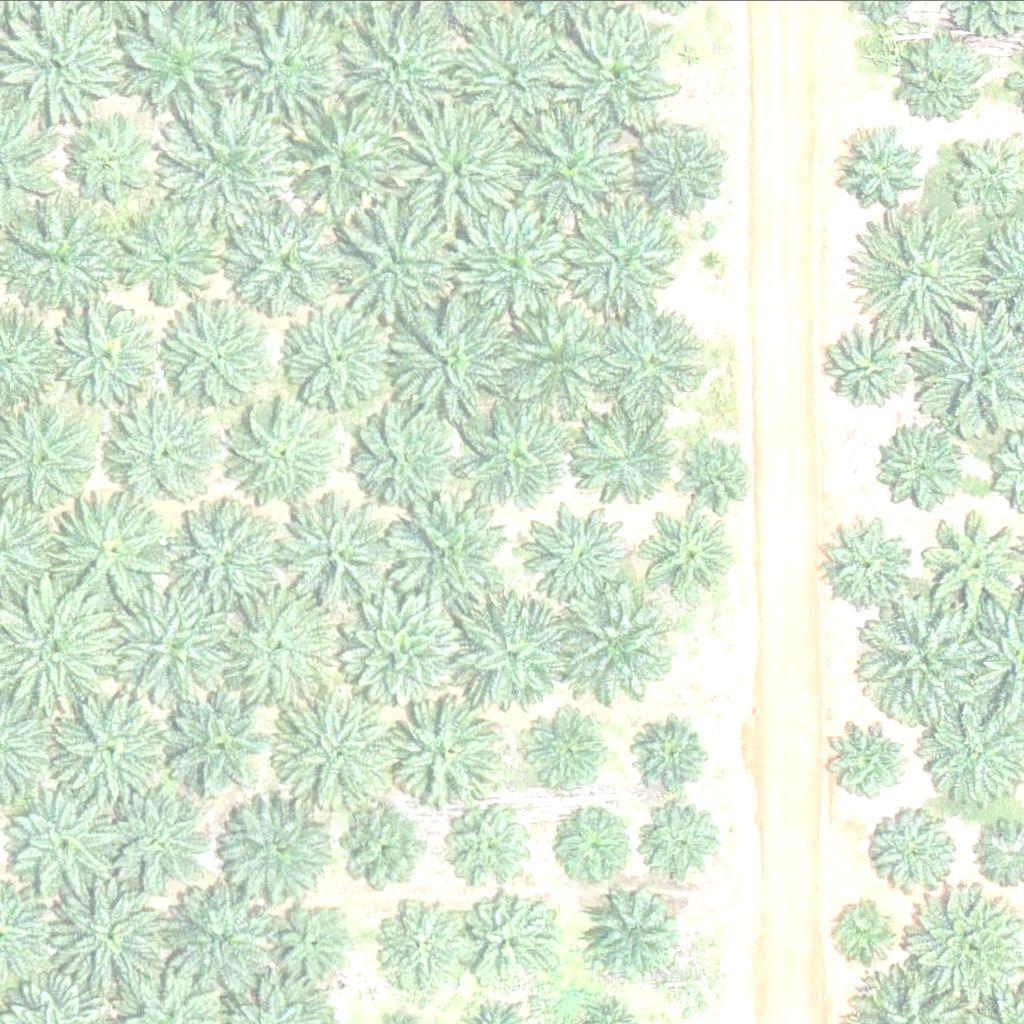Kelapa_Sawit: (863, 212, 989, 337), (862, 598, 988, 723), (336, 6, 462, 131), (399, 100, 525, 225), (275, 101, 401, 226), (161, 101, 287, 226), (234, 198, 360, 323), (1, 1, 127, 126), (217, 10, 331, 123), (452, 27, 565, 140), (558, 18, 671, 131), (601, 303, 714, 416), (498, 301, 611, 414), (386, 297, 499, 410), (107, 398, 220, 511), (452, 399, 565, 512), (57, 489, 170, 602), (162, 499, 275, 612), (280, 502, 393, 615), (554, 589, 667, 702), (386, 699, 499, 812), (226, 796, 339, 909), (54, 878, 167, 991), (155, 892, 268, 1005), (6, 781, 119, 894), (121, 9, 234, 121), (523, 111, 636, 223), (339, 204, 452, 316), (454, 205, 567, 317), (569, 202, 682, 314), (270, 297, 383, 409), (157, 301, 270, 413), (384, 494, 497, 606), (530, 498, 643, 610), (111, 591, 224, 703), (220, 593, 333, 705), (339, 595, 452, 707), (454, 599, 567, 711), (276, 697, 389, 809), (49, 693, 162, 805), (820, 512, 921, 612), (624, 109, 725, 209), (226, 398, 327, 498), (350, 407, 451, 507), (572, 406, 673, 506), (173, 695, 274, 795), (585, 886, 686, 986), (115, 207, 215, 307), (56, 304, 156, 404), (874, 808, 963, 896), (642, 514, 730, 602), (376, 903, 464, 991), (470, 895, 558, 983), (828, 717, 916, 804), (523, 710, 611, 797), (120, 799, 208, 886), (346, 808, 422, 883), (850, 137, 926, 212), (837, 330, 913, 405), (885, 429, 961, 504), (65, 125, 141, 200), (639, 714, 715, 789), (461, 806, 537, 881), (643, 803, 719, 878), (279, 910, 355, 985), (904, 42, 979, 117), (566, 818, 629, 881), (831, 897, 894, 960), (683, 444, 746, 507)
